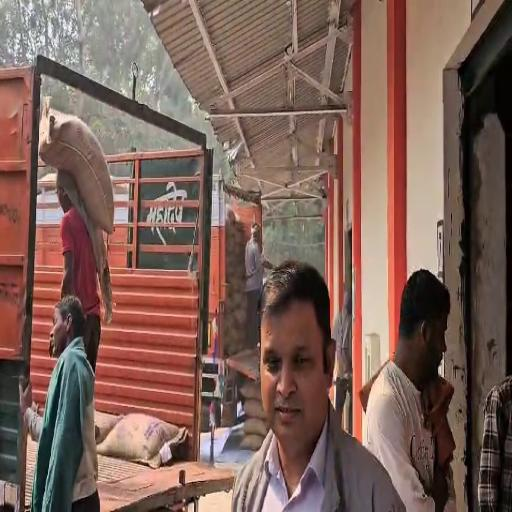bag: (37, 94, 116, 236)
